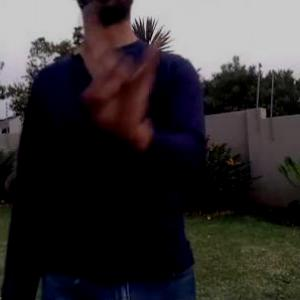takeoff-hand: (73, 8, 165, 152)
